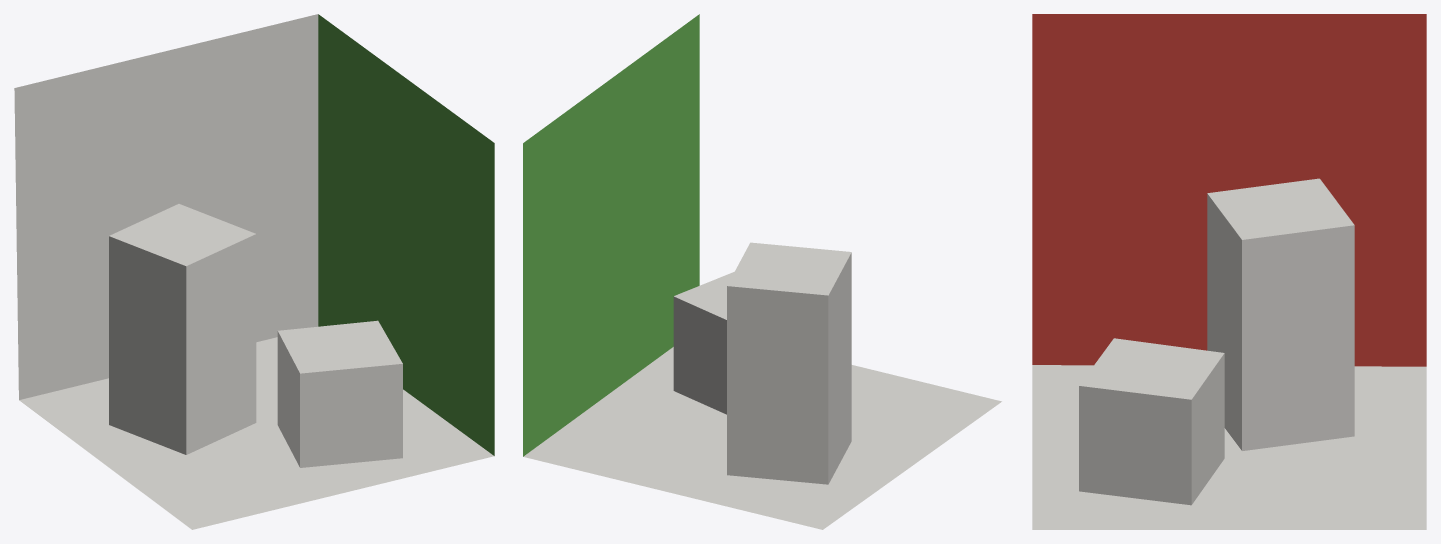
Rendered from CornellBox.glb.
The picture shows the model from 3 angles, left to right: view 1: azimuth 30°, elevation 25°; view 2: azimuth 150°, elevation 25°; view 3: azimuth 270°, elevation 25°; orthographic projection. The views are drawn at different scales.
Visible parts, largest first — view 1: Cornell Box Original; view 2: Cornell Box Original; view 3: Cornell Box Original.
Part boxes in pixels (x1,y1,x2,y2): Cornell Box Original: (14,14,494,529); Cornell Box Original: (523,14,1001,529); Cornell Box Original: (1032,14,1426,529).
Bounding box in the file's own units: 2.02 × 1.99 × 2.03.
